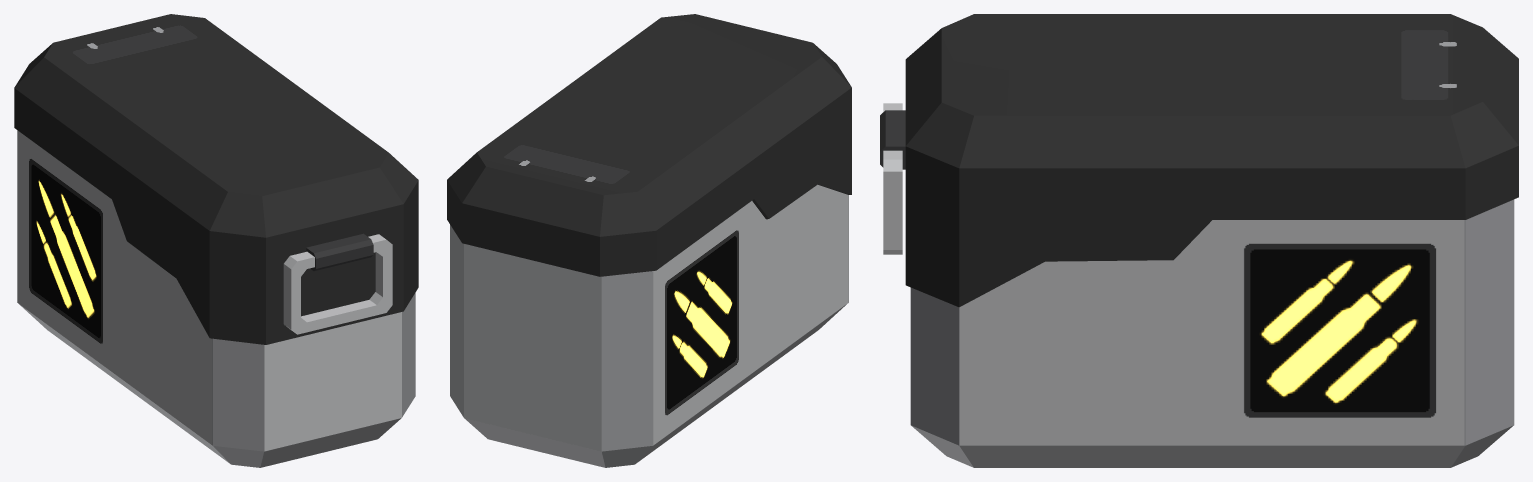
The model's file is AmmoBox.fbx.
3 renders of one model, left to right at view 1: azimuth 30°, elevation 25°; view 2: azimuth 150°, elevation 25°; view 3: azimuth 270°, elevation 25°, orthographic. The views are drawn at different scales.
Visible parts, largest first — view 1: Ammo Box; view 2: Ammo Box; view 3: Ammo Box.
Part boxes in pixels (x1,y1,x2,y2): Ammo Box: (14, 14, 418, 467); Ammo Box: (447, 14, 851, 467); Ammo Box: (880, 14, 1518, 467).
Bounding box in the file's own units: 31.84 × 39.83 × 65.05.
